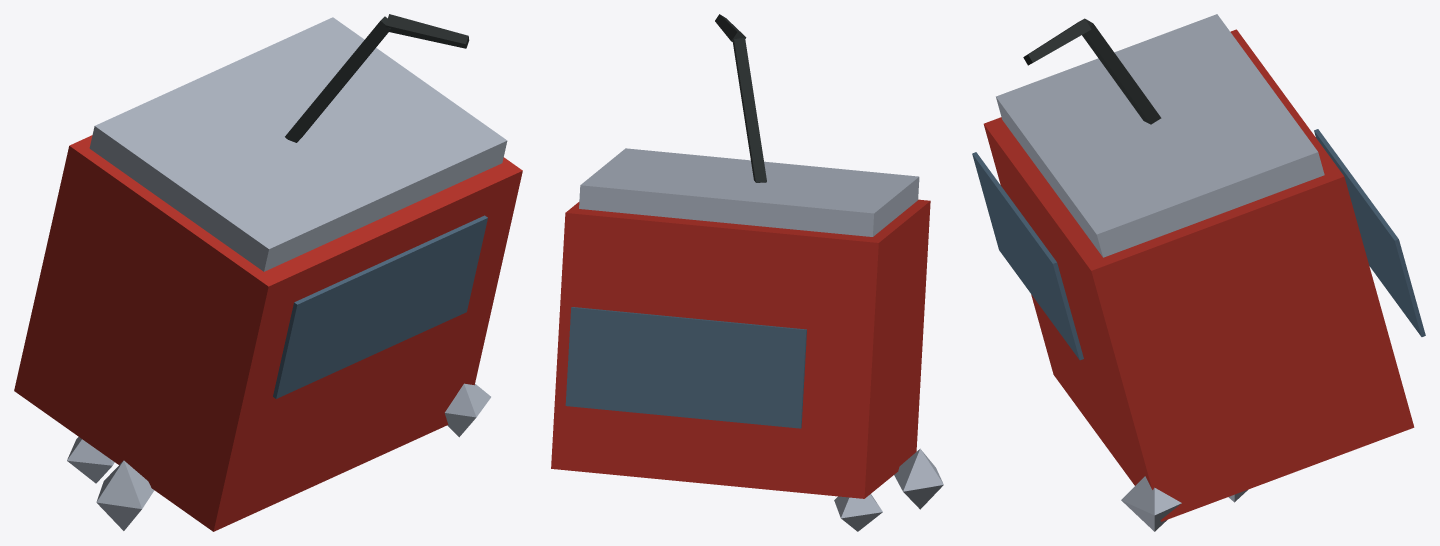
File: gondola_fallen.glb
The picture shows the model from 3 angles, left to right: view 1: azimuth 30°, elevation 25°; view 2: azimuth 150°, elevation 25°; view 3: azimuth 270°, elevation 25°; orthographic projection. The views are drawn at different scales.
Visible parts, largest first — view 1: gondola_fallen2; view 2: gondola_fallen2; view 3: gondola_fallen2.
Boxes of the visible parts, bbox=[...] form: gondola_fallen2: bbox=[14, 14, 522, 531]; gondola_fallen2: bbox=[551, 14, 943, 531]; gondola_fallen2: bbox=[972, 14, 1425, 531].
Size of the model in its own units: 2 by 2.26 by 1.99.
